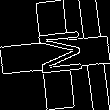M_W: (28, 29, 82, 81)
